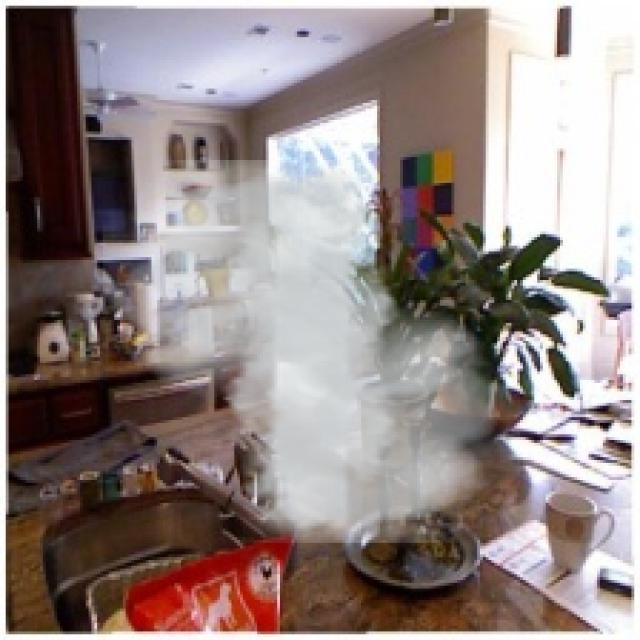Smoke: (103, 160, 520, 543)
